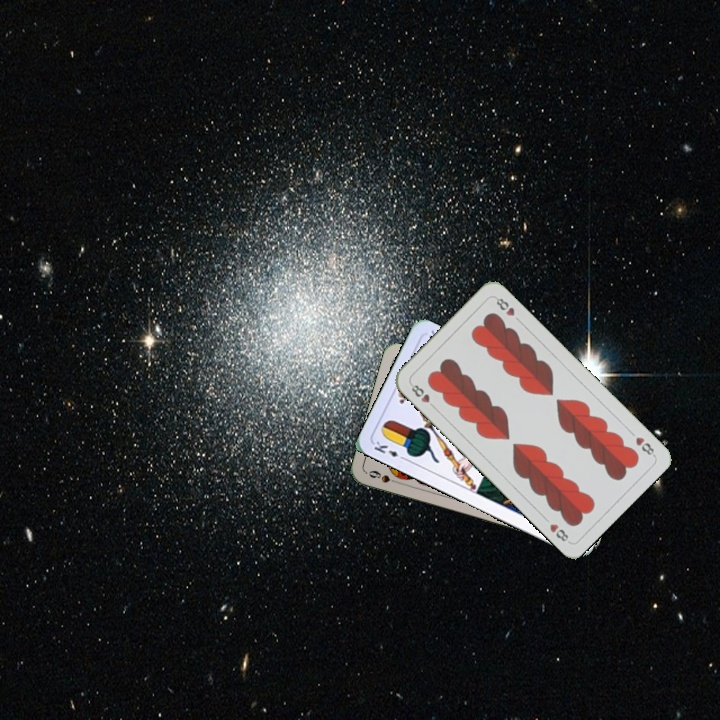EK: (370, 437, 409, 463)
H8: (406, 379, 438, 411), (632, 433, 657, 458)
S9: (364, 466, 404, 487)
